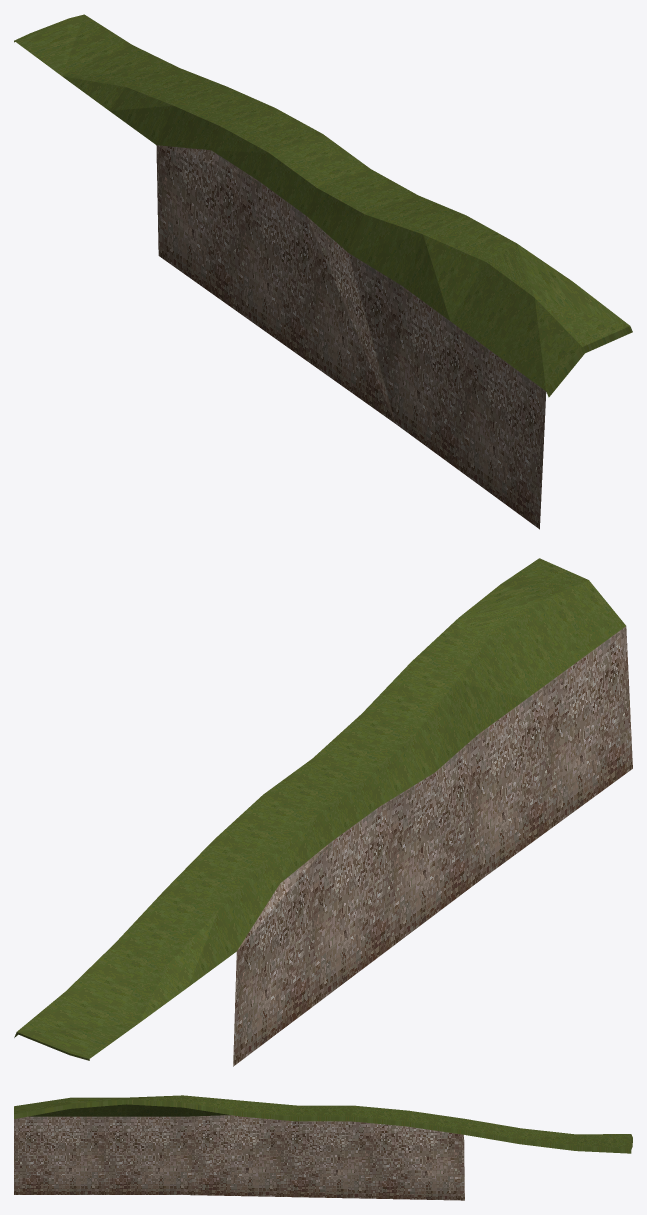
The model's file is lodsfandbut201.obj.
3 views of the same model, one above another, from view 1: azimuth 30°, elevation 25°; view 2: azimuth 150°, elevation 25°; view 3: azimuth 270°, elevation 25° (orthographic). The views are drawn at different scales.
Parts seen in each view (by area): view 1: LODsfandbut201; view 2: LODsfandbut201; view 3: LODsfandbut201.
Boxes of the visible parts, x1,y1,x2,y2 form: LODsfandbut201: [14, 14, 632, 529]; LODsfandbut201: [14, 558, 632, 1066]; LODsfandbut201: [14, 1095, 632, 1200].
Size of the model in its own units: 22.54 by 47.67 by 221.
Materials: 2 (2 with a texture image).
